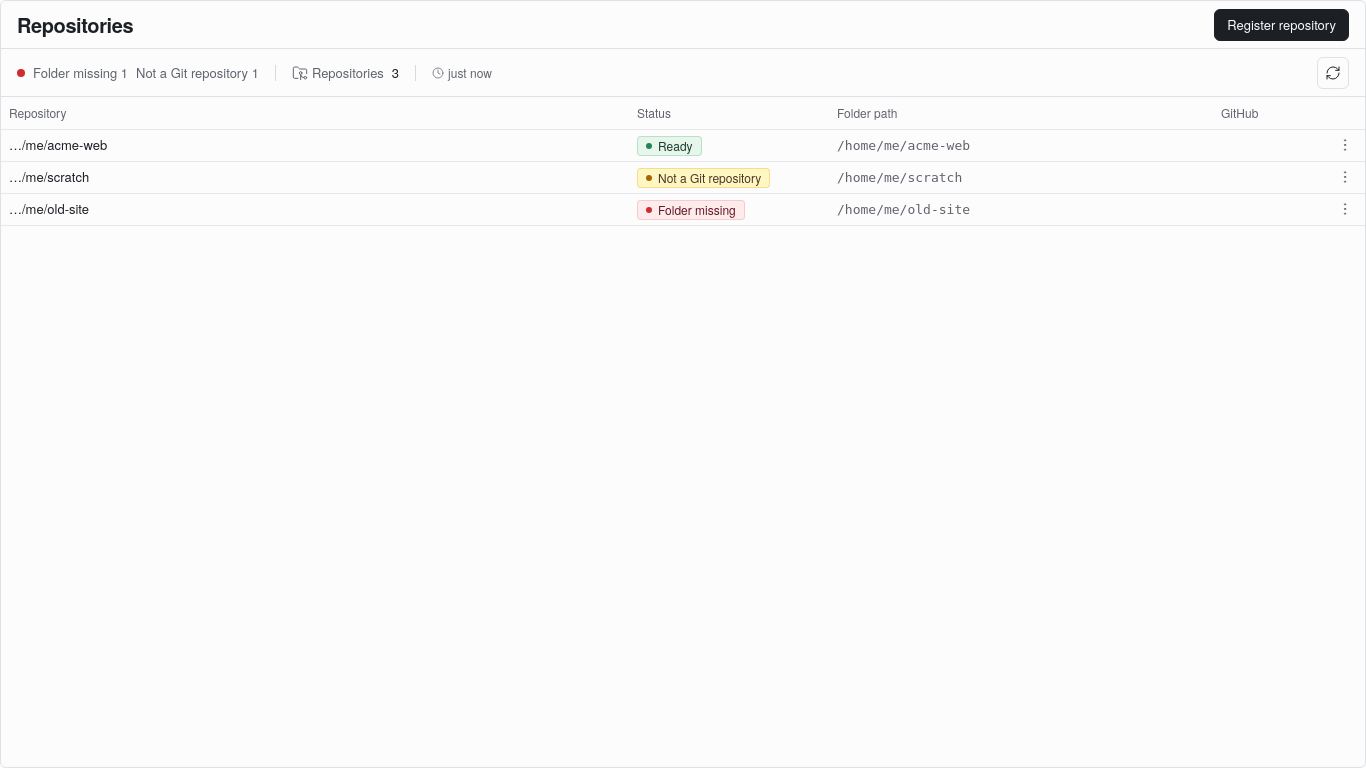
Scenario: Repositories › asks before unregistering, focus on Cancel, the folder's fate stated
What coordinates should you click on to do the following:
click the button named "Actions for …/me/old-site"
I would click on:
 (1345, 208)
Its box is [1333,196,1357,220].
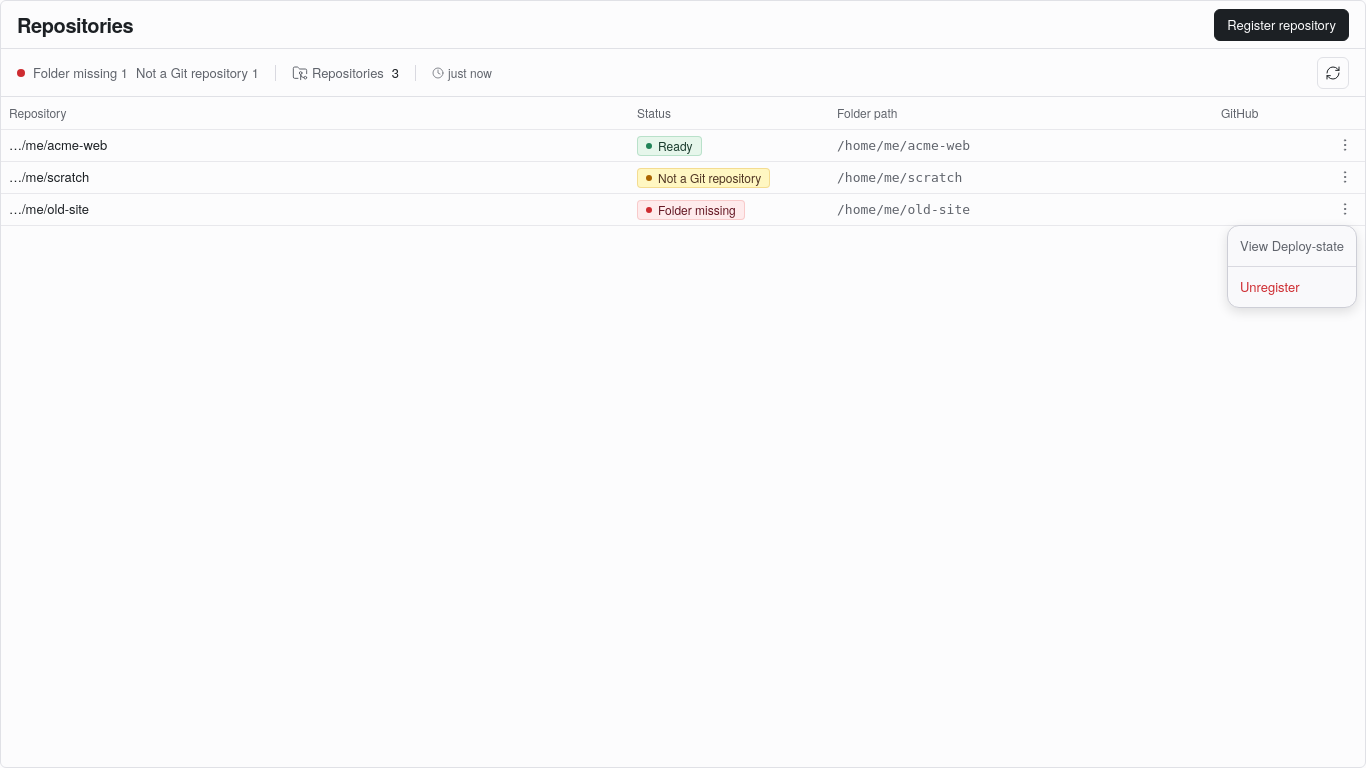
What coordinates should you click on to do the following:
click the menu item "Unregister"
I would click on:
 (1270, 286)
Its box is [1240,277,1300,296].
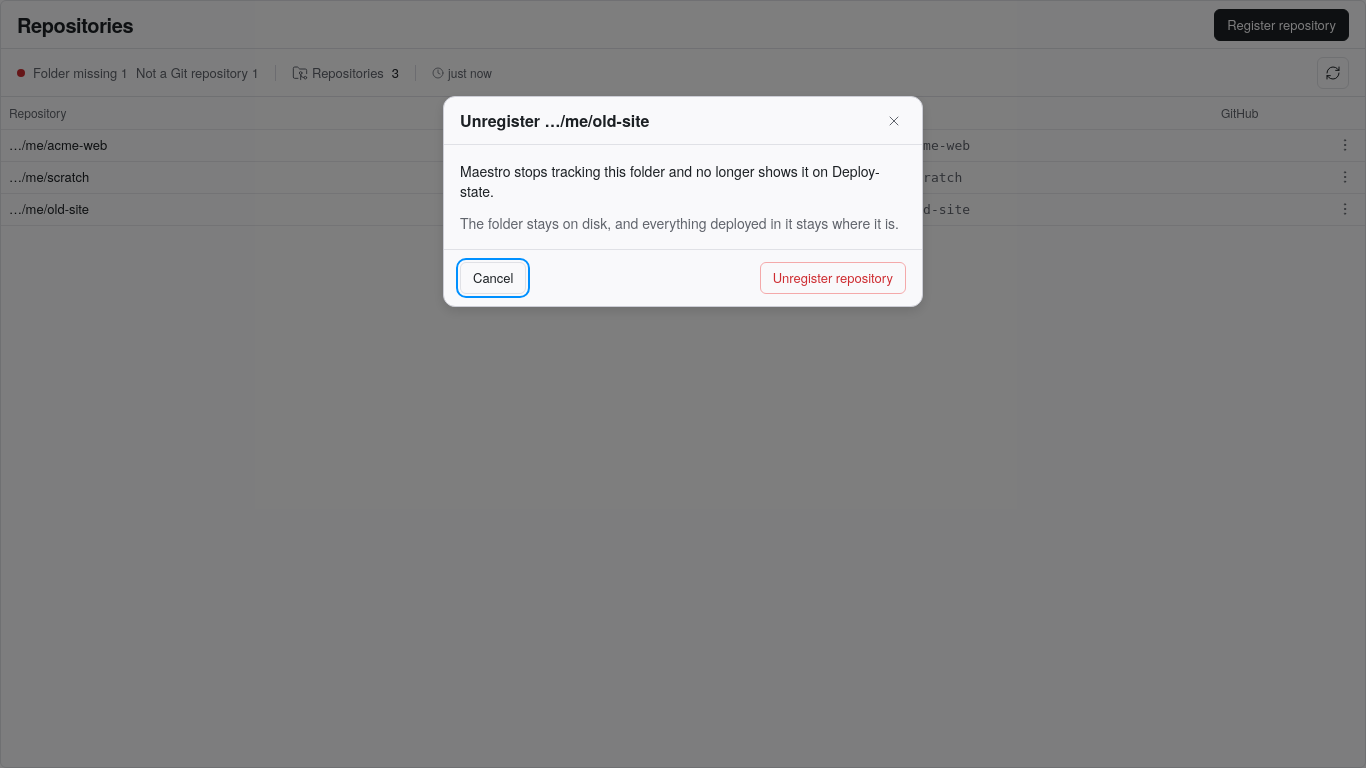
What coordinates should you click on to do the following:
click the button "Cancel"
I would click on:
 (493, 278)
Its box is [460,262,526,294].
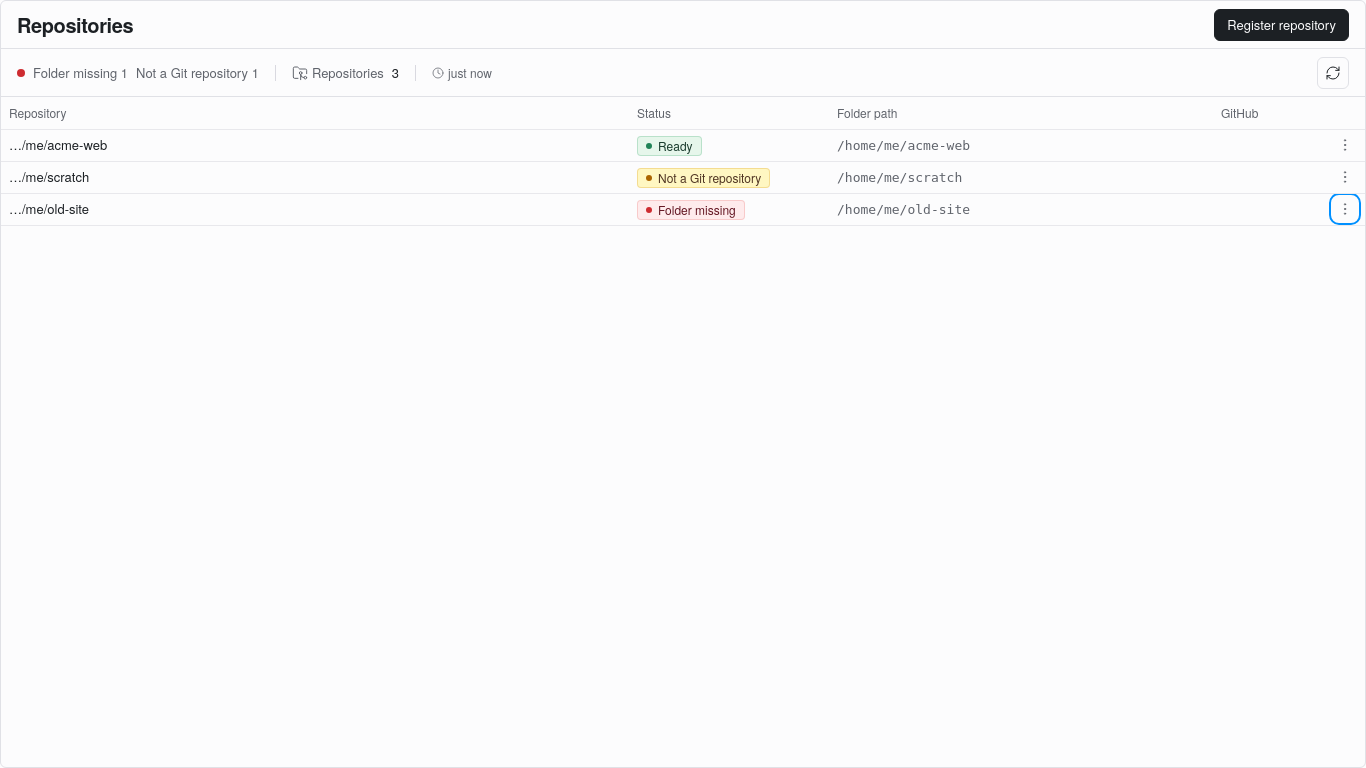
Expected: the text "/home/me/old-site" is shown, [837,202,970,216]
Now the dialog is gone
